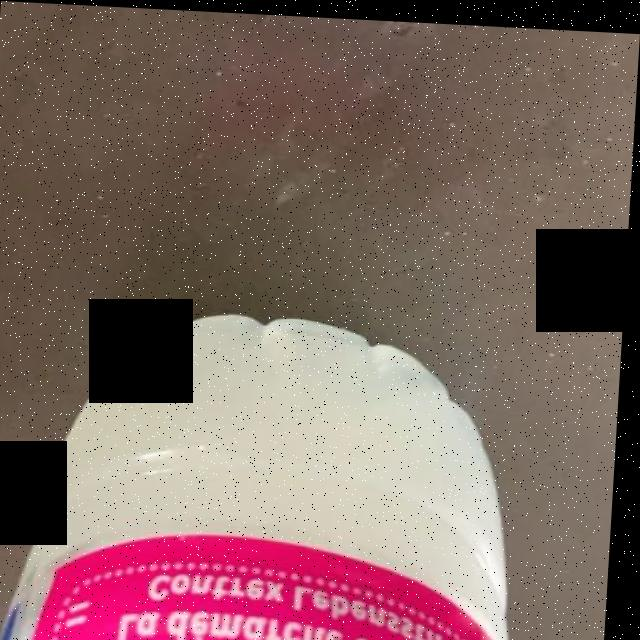glucose-drink-50g: (3, 256, 554, 640), (18, 316, 516, 638)
